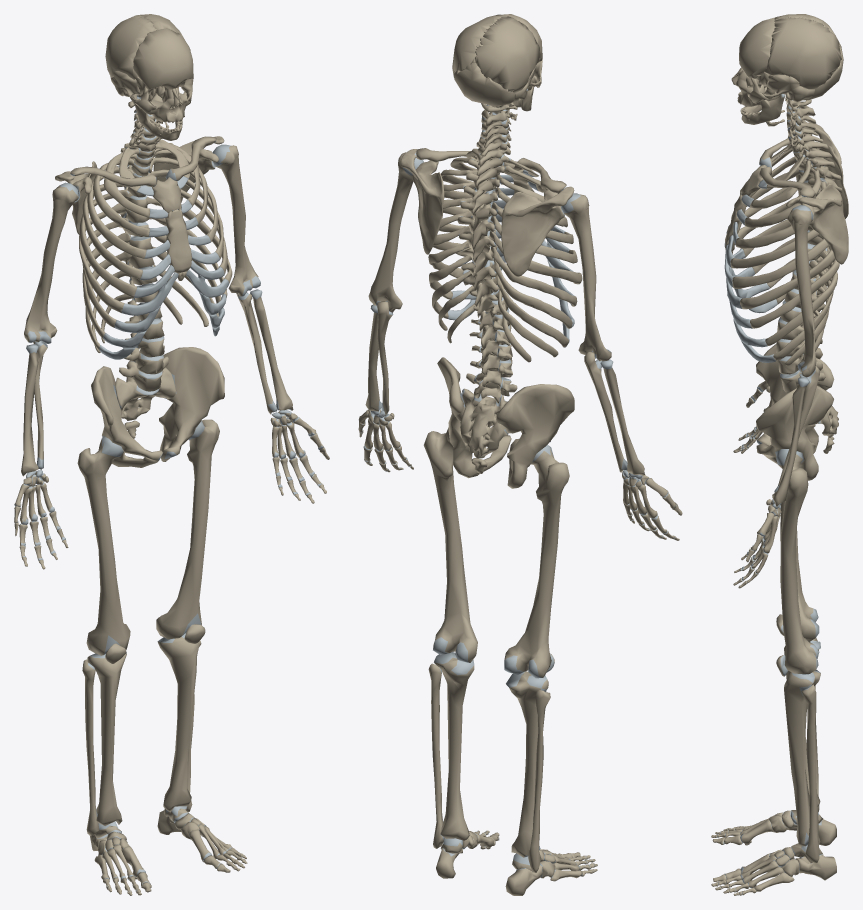
File: adult_male.skeletal.LOD2.glb
The picture shows the model from 3 angles, left to right: view 1: azimuth 30°, elevation 25°; view 2: azimuth 150°, elevation 25°; view 3: azimuth 270°, elevation 25°; orthographic projection. The views are drawn at different scales.
Visible parts, largest first — view 1: ADULT.MALE.SKELETAL.FEMUR.R, ADULT.MALE.SKELETAL.FEMUR.L, ADULT.MALE.SKELETAL.HIP_BONE.L, ADULT.MALE.SKELETAL.TIBIA.L, ADULT.MALE.SKELETAL.TIBIA.R, ADULT.MALE.SKELETAL.FRONTAL_BONE, ADULT.MALE.SKELETAL.HUMERUS.R, ADULT.MALE.SKELETAL.HUMERUS.L, ADULT.MALE.SKELETAL.HIP_BONE.R, ADULT.MALE.SKELETAL.PARIETAL_BONE.R, ADULT.MALE.SKELETAL.SACRUM, ADULT.MALE.SKELETAL.FIBULA.R (+19 smaller); view 2: ADULT.MALE.SKELETAL.FEMUR.R, ADULT.MALE.SKELETAL.FEMUR.L, ADULT.MALE.SKELETAL.HIP_BONE.R, ADULT.MALE.SKELETAL.SCAPULA.R, ADULT.MALE.SKELETAL.PARIETAL_BONE.R, ADULT.MALE.SKELETAL.TIBIA.L, ADULT.MALE.SKELETAL.TIBIA.R, ADULT.MALE.SKELETAL.HUMERUS.R, ADULT.MALE.SKELETAL.HUMERUS.L, ADULT.MALE.SKELETAL.SCAPULA.L, ADULT.MALE.SKELETAL.HIP_BONE.L, ADULT.MALE.SKELETAL.SACRUM (+15 smaller); view 3: ADULT.MALE.SKELETAL.FEMUR.L, ADULT.MALE.SKELETAL.PARIETAL_BONE.L, ADULT.MALE.SKELETAL.TIBIA.L, ADULT.MALE.SKELETAL.HIP_BONE.L, ADULT.MALE.SKELETAL.HUMERUS.L, ADULT.MALE.SKELETAL.SCAPULA.L, ADULT.MALE.SKELETAL.FIBULA.L, ADULT.MALE.SKELETAL.FRONTAL_BONE, ADULT.MALE.SKELETAL.HIP_BONE.R, ADULT.MALE.SKELETAL.RADIUS.L, ADULT.MALE.SKELETAL.FEMUR.R, ADULT.MALE.SKELETAL.SEVENTH_RIB.L (+27 smaller).
Part boxes in pixels (bbox=[...]): ADULT.MALE.SKELETAL.FEMUR.R: bbox=[77, 437, 130, 655]; ADULT.MALE.SKELETAL.FEMUR.L: bbox=[156, 419, 219, 639]; ADULT.MALE.SKELETAL.HIP_BONE.L: bbox=[159, 347, 224, 461]; ADULT.MALE.SKELETAL.TIBIA.L: bbox=[157, 632, 199, 812]; ADULT.MALE.SKELETAL.TIBIA.R: bbox=[87, 652, 126, 825]; ADULT.MALE.SKELETAL.FRONTAL_BONE: bbox=[133, 28, 193, 91]; ADULT.MALE.SKELETAL.HUMERUS.R: bbox=[24, 182, 78, 343]; ADULT.MALE.SKELETAL.HUMERUS.L: bbox=[212, 144, 260, 296]; ADULT.MALE.SKELETAL.HIP_BONE.R: bbox=[91, 366, 163, 467]; ADULT.MALE.SKELETAL.PARIETAL_BONE.R: bbox=[105, 15, 157, 79]; ADULT.MALE.SKELETAL.SACRUM: bbox=[115, 367, 176, 420]; ADULT.MALE.SKELETAL.FIBULA.R: bbox=[82, 659, 99, 835]; ADULT.MALE.SKELETAL.FEMUR.R: bbox=[504, 444, 569, 678]; ADULT.MALE.SKELETAL.FEMUR.L: bbox=[423, 427, 477, 662]; ADULT.MALE.SKELETAL.HIP_BONE.R: bbox=[496, 384, 574, 488]; ADULT.MALE.SKELETAL.SCAPULA.R: bbox=[501, 186, 574, 276]; ADULT.MALE.SKELETAL.PARIETAL_BONE.R: bbox=[475, 16, 539, 92]; ADULT.MALE.SKELETAL.TIBIA.L: bbox=[434, 652, 474, 840]; ADULT.MALE.SKELETAL.TIBIA.R: bbox=[506, 671, 548, 857]; ADULT.MALE.SKELETAL.HUMERUS.R: bbox=[561, 193, 611, 361]; ADULT.MALE.SKELETAL.HUMERUS.L: bbox=[368, 152, 423, 312]; ADULT.MALE.SKELETAL.SCAPULA.L: bbox=[400, 149, 444, 254]; ADULT.MALE.SKELETAL.HIP_BONE.L: bbox=[437, 357, 511, 478]; ADULT.MALE.SKELETAL.SACRUM: bbox=[460, 388, 508, 458]; ADULT.MALE.SKELETAL.FEMUR.L: bbox=[776, 449, 819, 674]; ADULT.MALE.SKELETAL.PARIETAL_BONE.L: bbox=[763, 17, 841, 89]; ADULT.MALE.SKELETAL.TIBIA.L: bbox=[784, 670, 820, 846]; ADULT.MALE.SKELETAL.HIP_BONE.L: bbox=[756, 386, 833, 480]; ADULT.MALE.SKELETAL.HUMERUS.L: bbox=[787, 205, 816, 377]; ADULT.MALE.SKELETAL.SCAPULA.L: bbox=[786, 183, 848, 264]; ADULT.MALE.SKELETAL.FIBULA.L: bbox=[801, 684, 819, 863]; ADULT.MALE.SKELETAL.FRONTAL_BONE: bbox=[739, 17, 775, 78]; ADULT.MALE.SKELETAL.HIP_BONE.R: bbox=[756, 343, 834, 453]; ADULT.MALE.SKELETAL.RADIUS.L: bbox=[772, 377, 809, 506]; ADULT.MALE.SKELETAL.FEMUR.R: bbox=[780, 501, 819, 641]; ADULT.MALE.SKELETAL.SEVENTH_RIB.L: bbox=[740, 249, 835, 309].
Bounding box in the file's own units: 0.6693 × 1.7 × 0.2501.
